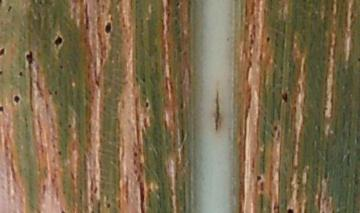tarspot: (52, 34, 64, 49), (25, 49, 34, 66), (104, 20, 113, 35), (279, 91, 289, 103), (11, 94, 21, 105), (1, 47, 7, 60), (272, 124, 279, 132), (104, 202, 112, 209), (284, 207, 293, 213), (255, 174, 262, 181), (52, 89, 59, 96), (18, 70, 23, 79), (143, 101, 149, 108), (66, 123, 73, 129), (175, 1, 181, 8), (7, 4, 11, 13), (57, 63, 63, 69), (56, 151, 63, 156), (265, 36, 270, 42), (141, 77, 146, 83), (47, 89, 51, 96), (1, 105, 4, 113), (59, 209, 65, 213), (166, 1, 170, 6), (1, 69, 3, 74), (1, 1, 3, 5)
